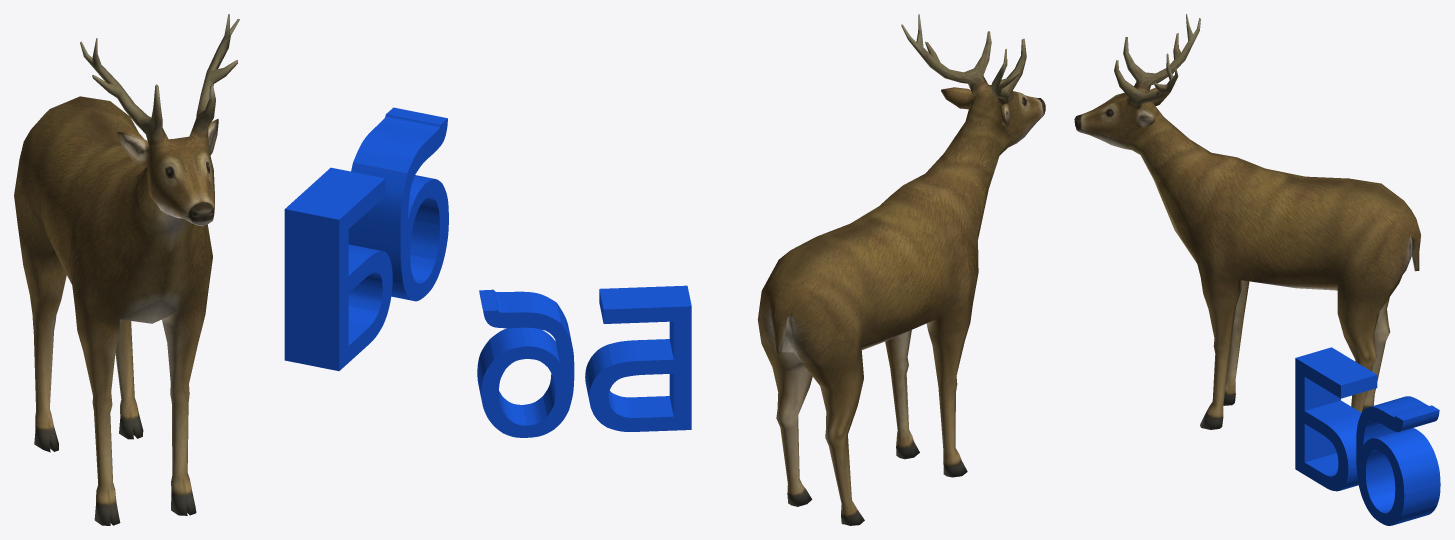
The picture shows the model from 3 angles, left to right: view 1: azimuth 30°, elevation 25°; view 2: azimuth 150°, elevation 25°; view 3: azimuth 270°, elevation 25°; orthographic projection. The views are drawn at different scales.
Parts seen in each view (by area): view 1: deer___UN.001, Mesh_0; view 2: deer___UN.001, Mesh_0; view 3: deer___UN.001, Mesh_0.
Part boxes in pixels (box(x1,y1,x2,y2)): deer___UN.001: box(14, 14, 239, 525); Mesh_0: box(284, 107, 448, 370); deer___UN.001: box(757, 14, 1045, 525); Mesh_0: box(477, 285, 691, 437); deer___UN.001: box(1074, 14, 1420, 429); Mesh_0: box(1295, 347, 1440, 525).
Size of the model in its own units: 35.63 by 34.41 by 30.09.
Materials: 2 (1 with a texture image).
